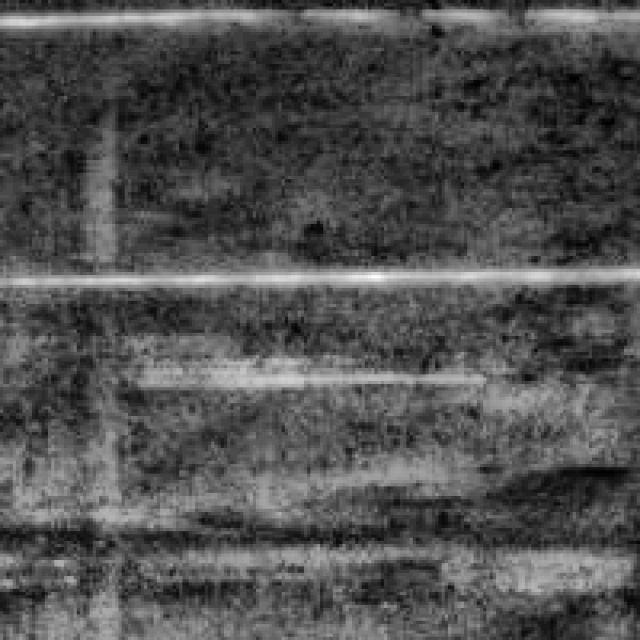Inclusion: (10, 249, 640, 297)
